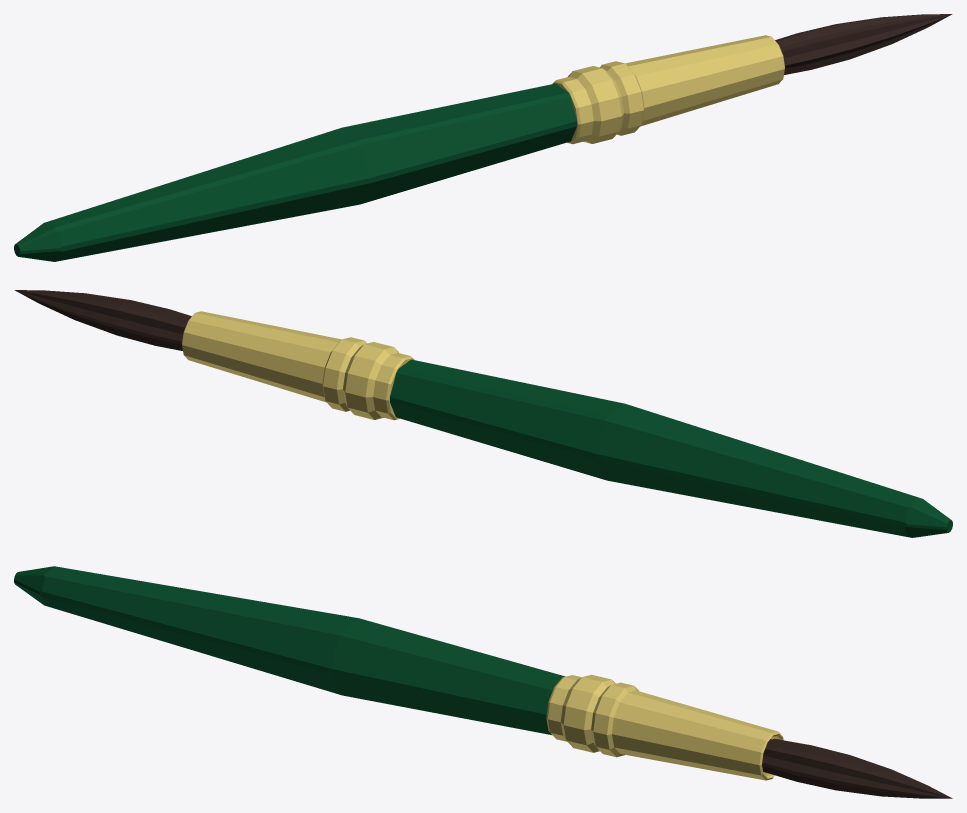
File: miniature-detail-brush-5a38ad.glb
3 renders of one model, top to bottom at view 1: azimuth 30°, elevation 25°; view 2: azimuth 150°, elevation 25°; view 3: azimuth 330°, elevation 25°, orthographic.
Visible parts, largest first — view 1: handle, ferrule, tuft; view 2: handle, ferrule, tuft; view 3: handle, ferrule, tuft.
Part boxes in pixels (box(x1,y1,x2,y2)): handle: box(14, 83, 576, 261); ferrule: box(552, 35, 784, 144); tuft: box(775, 14, 952, 74); handle: box(390, 359, 952, 537); ferrule: box(182, 311, 414, 420); tuft: box(14, 290, 191, 350); handle: box(14, 566, 565, 734); ferrule: box(546, 674, 783, 780); tuft: box(762, 738, 952, 798).
Size of the model in its own units: 0.17 by 0.0119 by 0.0124.
